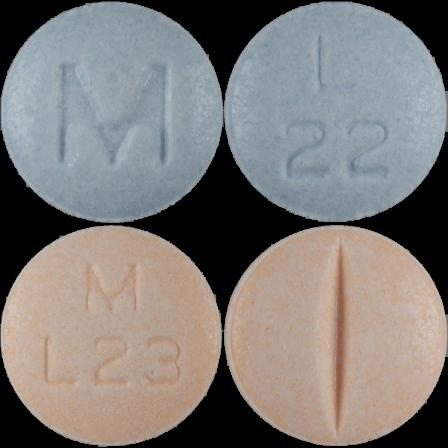60429-206: (0, 0, 224, 224)
